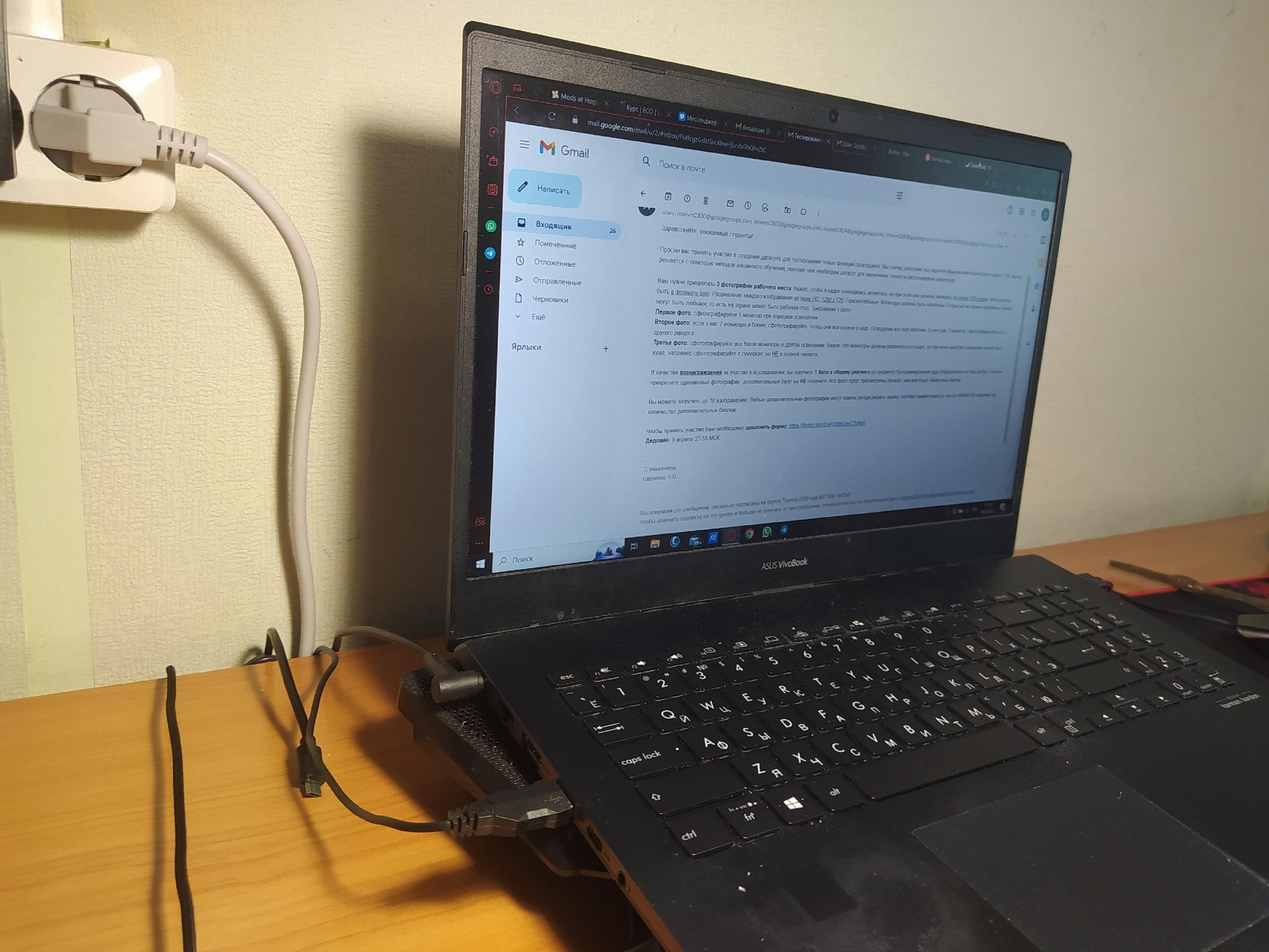monitor: (440, 17, 1081, 663)
